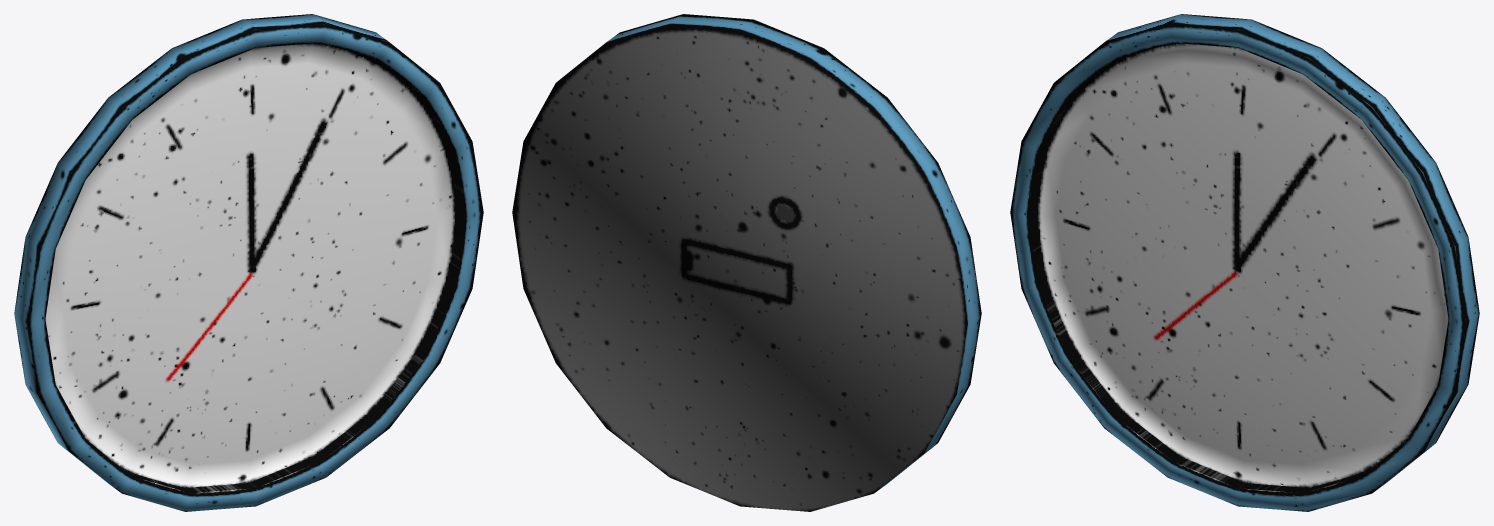
Rendered from wall_clock.obj.
3 views of the same model, side by side, from view 1: azimuth 30°, elevation 25°; view 2: azimuth 150°, elevation 25°; view 3: azimuth 330°, elevation 25° (orthographic).
Parts seen in each view (by area): view 1: wall_clock; view 2: wall_clock; view 3: wall_clock.
Boxes of the visible parts, box(x1,y1,x2,y2) form: wall_clock: box(14, 14, 483, 511); wall_clock: box(512, 14, 981, 511); wall_clock: box(1010, 14, 1479, 511).
Bounding box in the file's own units: 2 × 2 × 0.1044.
